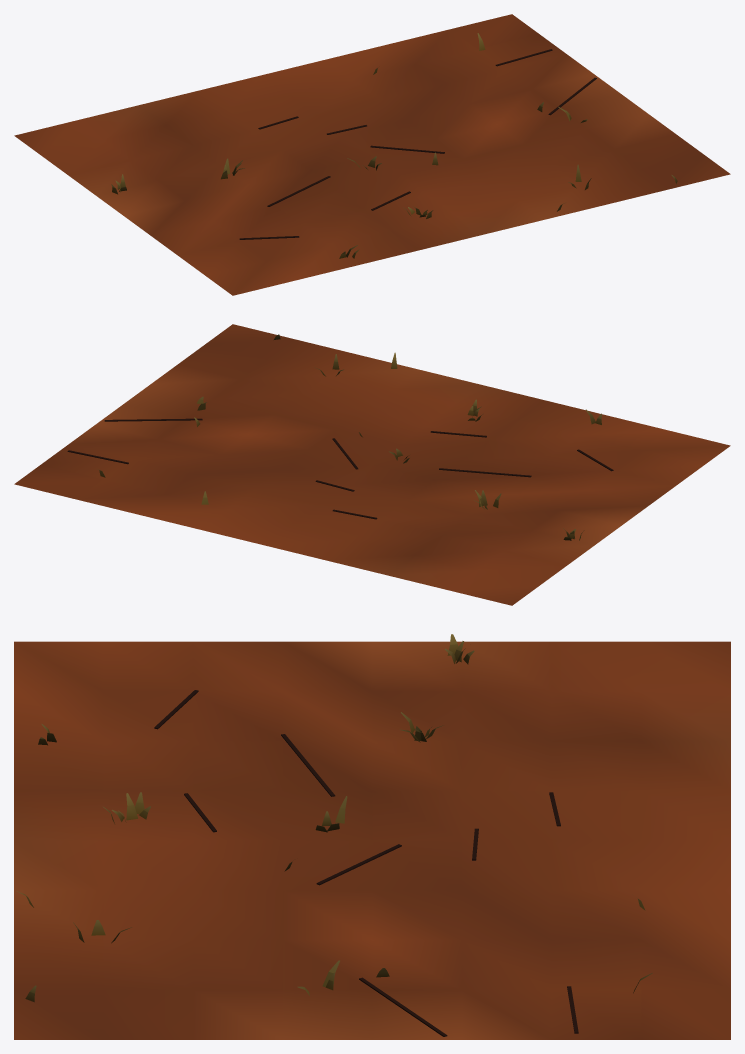
File: fm_turf_bare.glb
3 views of the same model, one above another, from view 1: azimuth 30°, elevation 25°; view 2: azimuth 150°, elevation 25°; view 3: azimuth 270°, elevation 25° (orthographic). The views are drawn at different scales.
Parts seen in each view (by area): view 1: fm_turf_bare; view 2: fm_turf_bare; view 3: fm_turf_bare.
Boxes of the visible parts, left/top/right/bottom form: fm_turf_bare: left=14, top=14, right=730, bottom=295; fm_turf_bare: left=14, top=324, right=730, bottom=605; fm_turf_bare: left=14, top=634, right=730, bottom=1039.
Bounding box in the file's own units: 2.3 × 0.0583 × 1.75.
